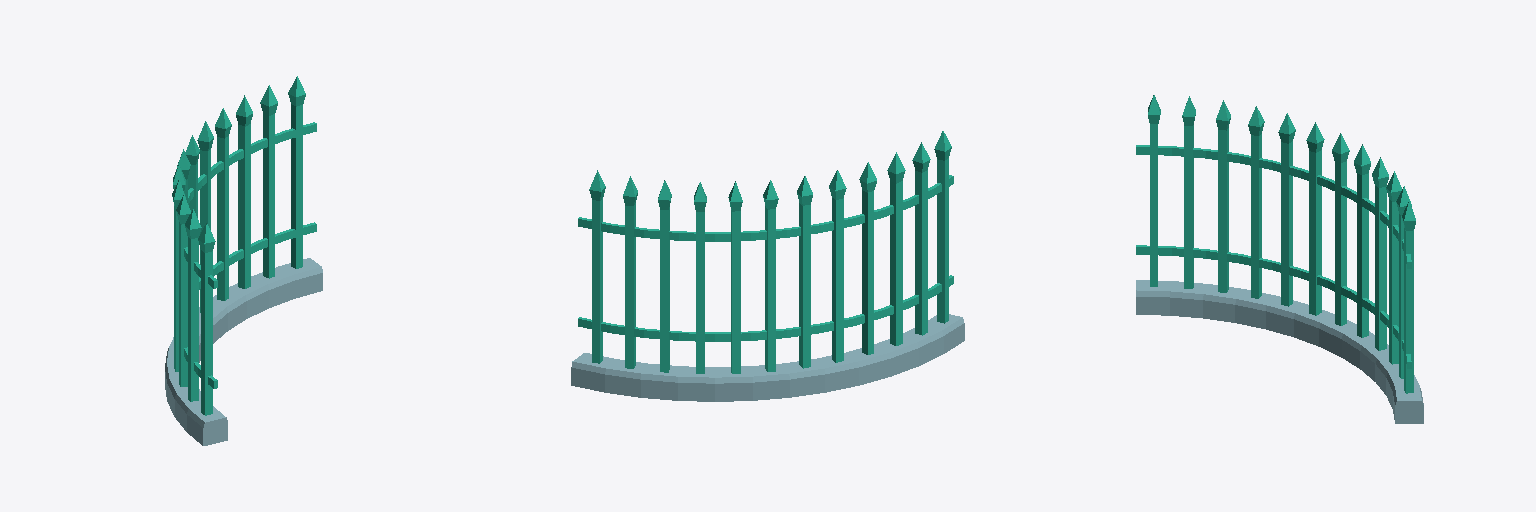
Rendered from ironFenceBorderCurve.obj.
3 renders of one model, left to right at view 1: azimuth 30°, elevation 25°; view 2: azimuth 150°, elevation 25°; view 3: azimuth 270°, elevation 25°, orthographic.
Parts seen in each view (by area): view 1: ironFenceBorderCurve; view 2: ironFenceBorderCurve; view 3: ironFenceBorderCurve.
Part boxes in pixels (x1,y1,x2,y2): ironFenceBorderCurve: (165,76,322,445); ironFenceBorderCurve: (571,131,964,401); ironFenceBorderCurve: (1136,95,1423,423).
Bounding box in the file's own units: 1 × 0.8239 × 1.